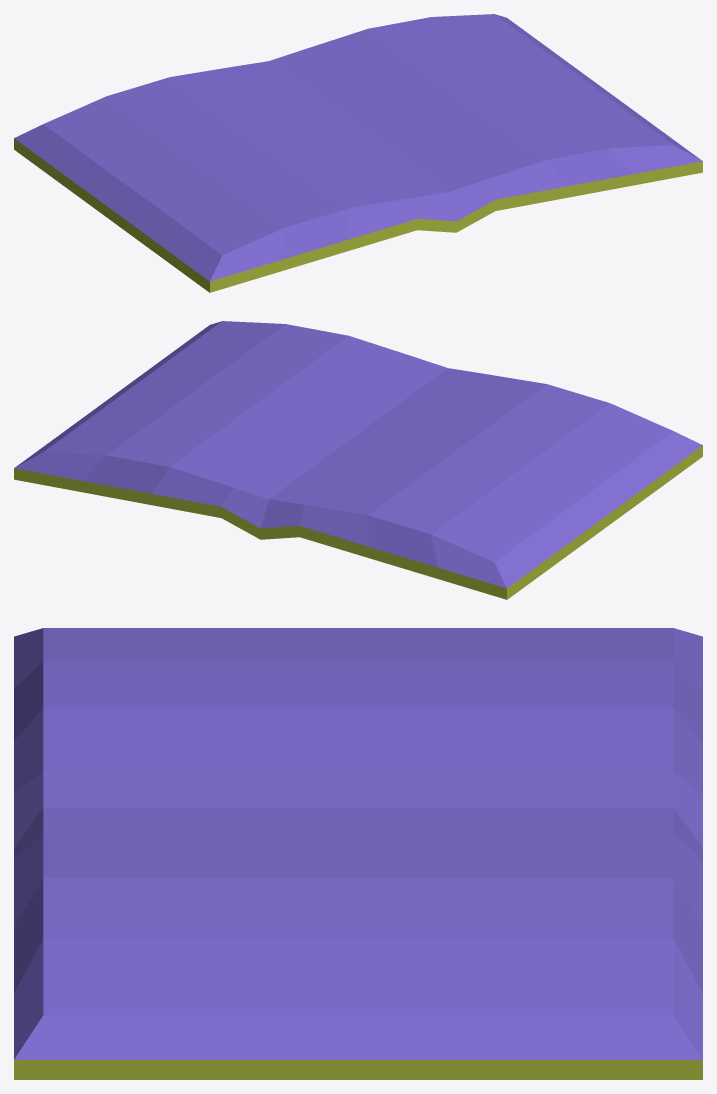
File: ksiazka.fbx
The picture shows the model from 3 angles, top to bottom: view 1: azimuth 30°, elevation 25°; view 2: azimuth 150°, elevation 25°; view 3: azimuth 270°, elevation 25°; orthographic projection. The views are drawn at different scales.
Visible parts, largest first — view 1: ksiazka; view 2: ksiazka; view 3: ksiazka.
Part boxes in pixels (left/top/right/bottom): ksiazka: left=14, top=14, right=702, bottom=292; ksiazka: left=14, top=321, right=702, bottom=599; ksiazka: left=14, top=628, right=702, bottom=1079.
Size of the model in its own units: 17.8 by 12.24 by 1.47.
